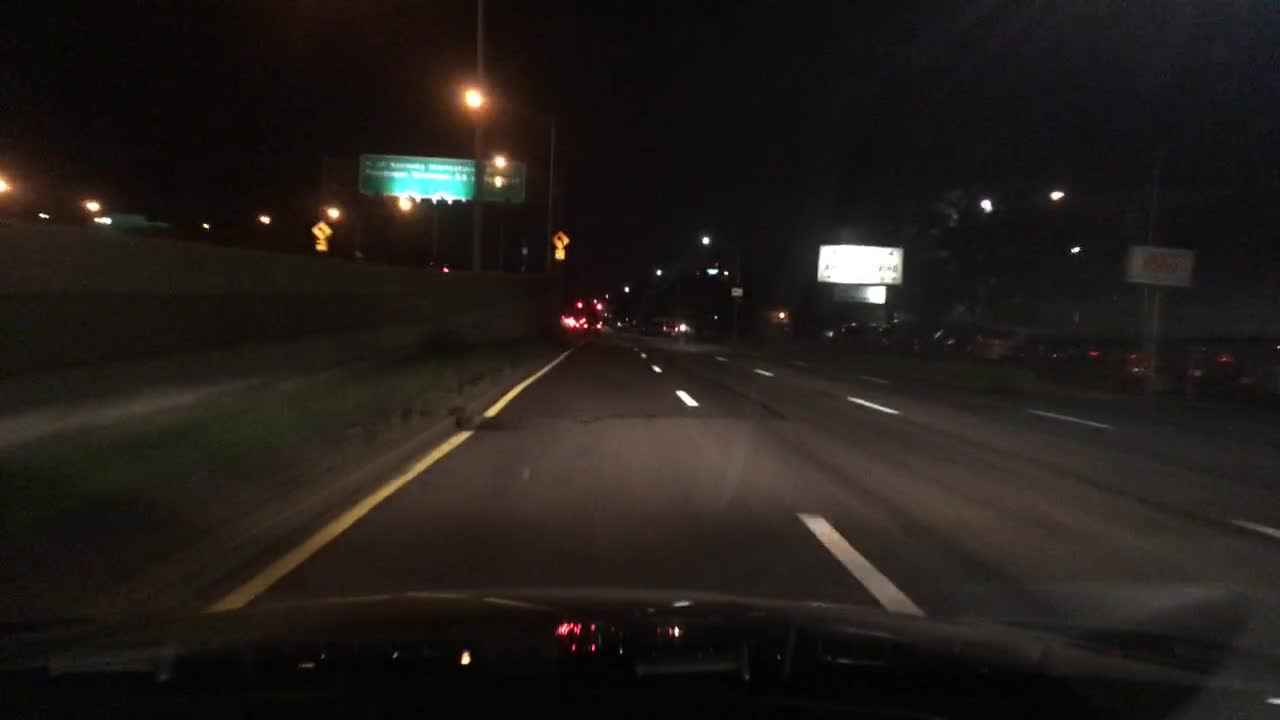car: (1112, 332, 1229, 392), (1206, 337, 1278, 397), (1030, 330, 1122, 376), (968, 322, 1040, 360), (822, 318, 878, 353), (930, 322, 984, 355), (879, 316, 926, 353), (642, 315, 670, 337), (581, 309, 605, 334), (668, 318, 696, 337), (558, 309, 584, 329)
traffic sign: (361, 156, 524, 203), (309, 220, 333, 238), (551, 229, 569, 246), (312, 234, 328, 252), (726, 287, 743, 297), (553, 248, 567, 260)
